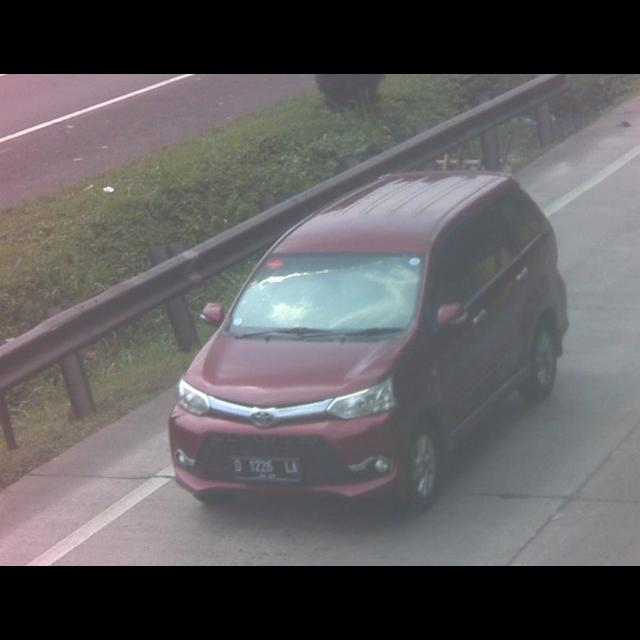plate: (231, 455, 301, 483)
